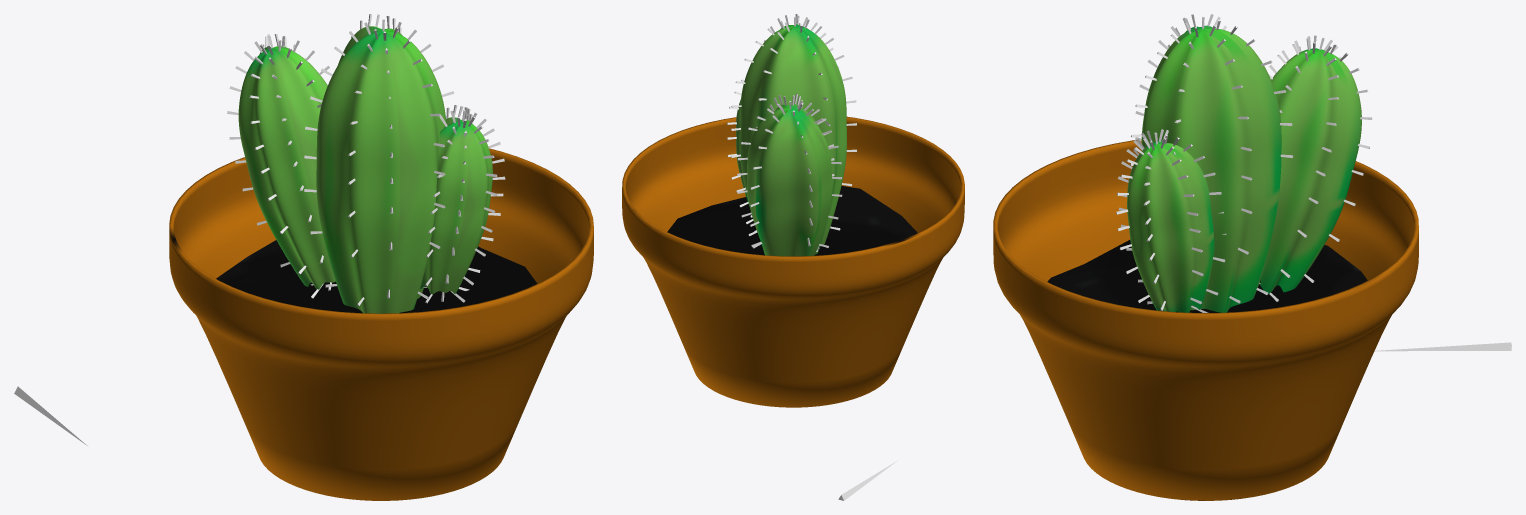
File: cactus.fbx
The picture shows the model from 3 angles, left to right: view 1: azimuth 30°, elevation 25°; view 2: azimuth 150°, elevation 25°; view 3: azimuth 270°, elevation 25°; orthographic projection. The views are drawn at different scales.
Parts seen in each view (by area): view 1: Cube, cactus, cactus.001, cactus.002, ground; view 2: Cube, cactus.001, cactus, ground; view 3: Cube, cactus, cactus.001, cactus.002, ground, Cone.
Part boxes in pixels (bbox=[...]): Cube: bbox=[169, 148, 593, 500]; cactus: bbox=[316, 26, 445, 313]; cactus.001: bbox=[238, 46, 335, 289]; cactus.002: bbox=[420, 117, 492, 294]; ground: bbox=[216, 240, 537, 313]; Cube: bbox=[622, 116, 964, 407]; cactus.001: bbox=[747, 104, 832, 256]; cactus: bbox=[739, 24, 846, 254]; ground: bbox=[667, 186, 917, 255]; Cube: bbox=[993, 140, 1418, 500]; cactus: bbox=[1141, 25, 1281, 312]; cactus.001: bbox=[1260, 48, 1361, 293]; cactus.002: bbox=[1127, 141, 1214, 312]; ground: bbox=[1047, 240, 1367, 312]; Cone: bbox=[1375, 342, 1511, 351].
Size of the model in its own units: 111 by 116 by 124.
Materials: 3 (3 with a texture image).
